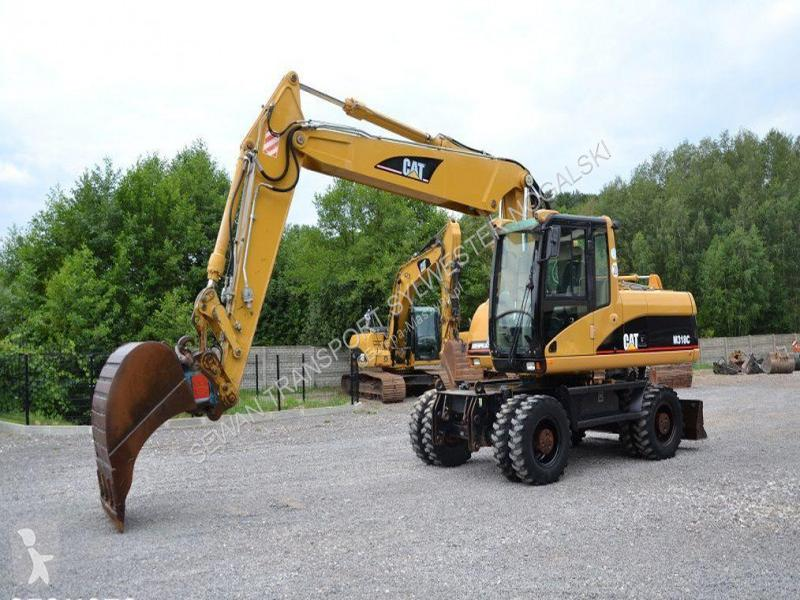shovel: (88, 68, 711, 544)
